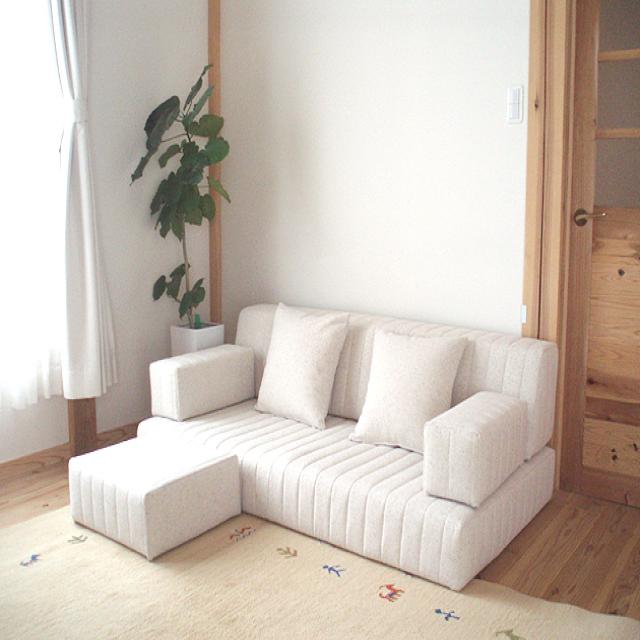white sofa: (84, 306, 562, 590)
